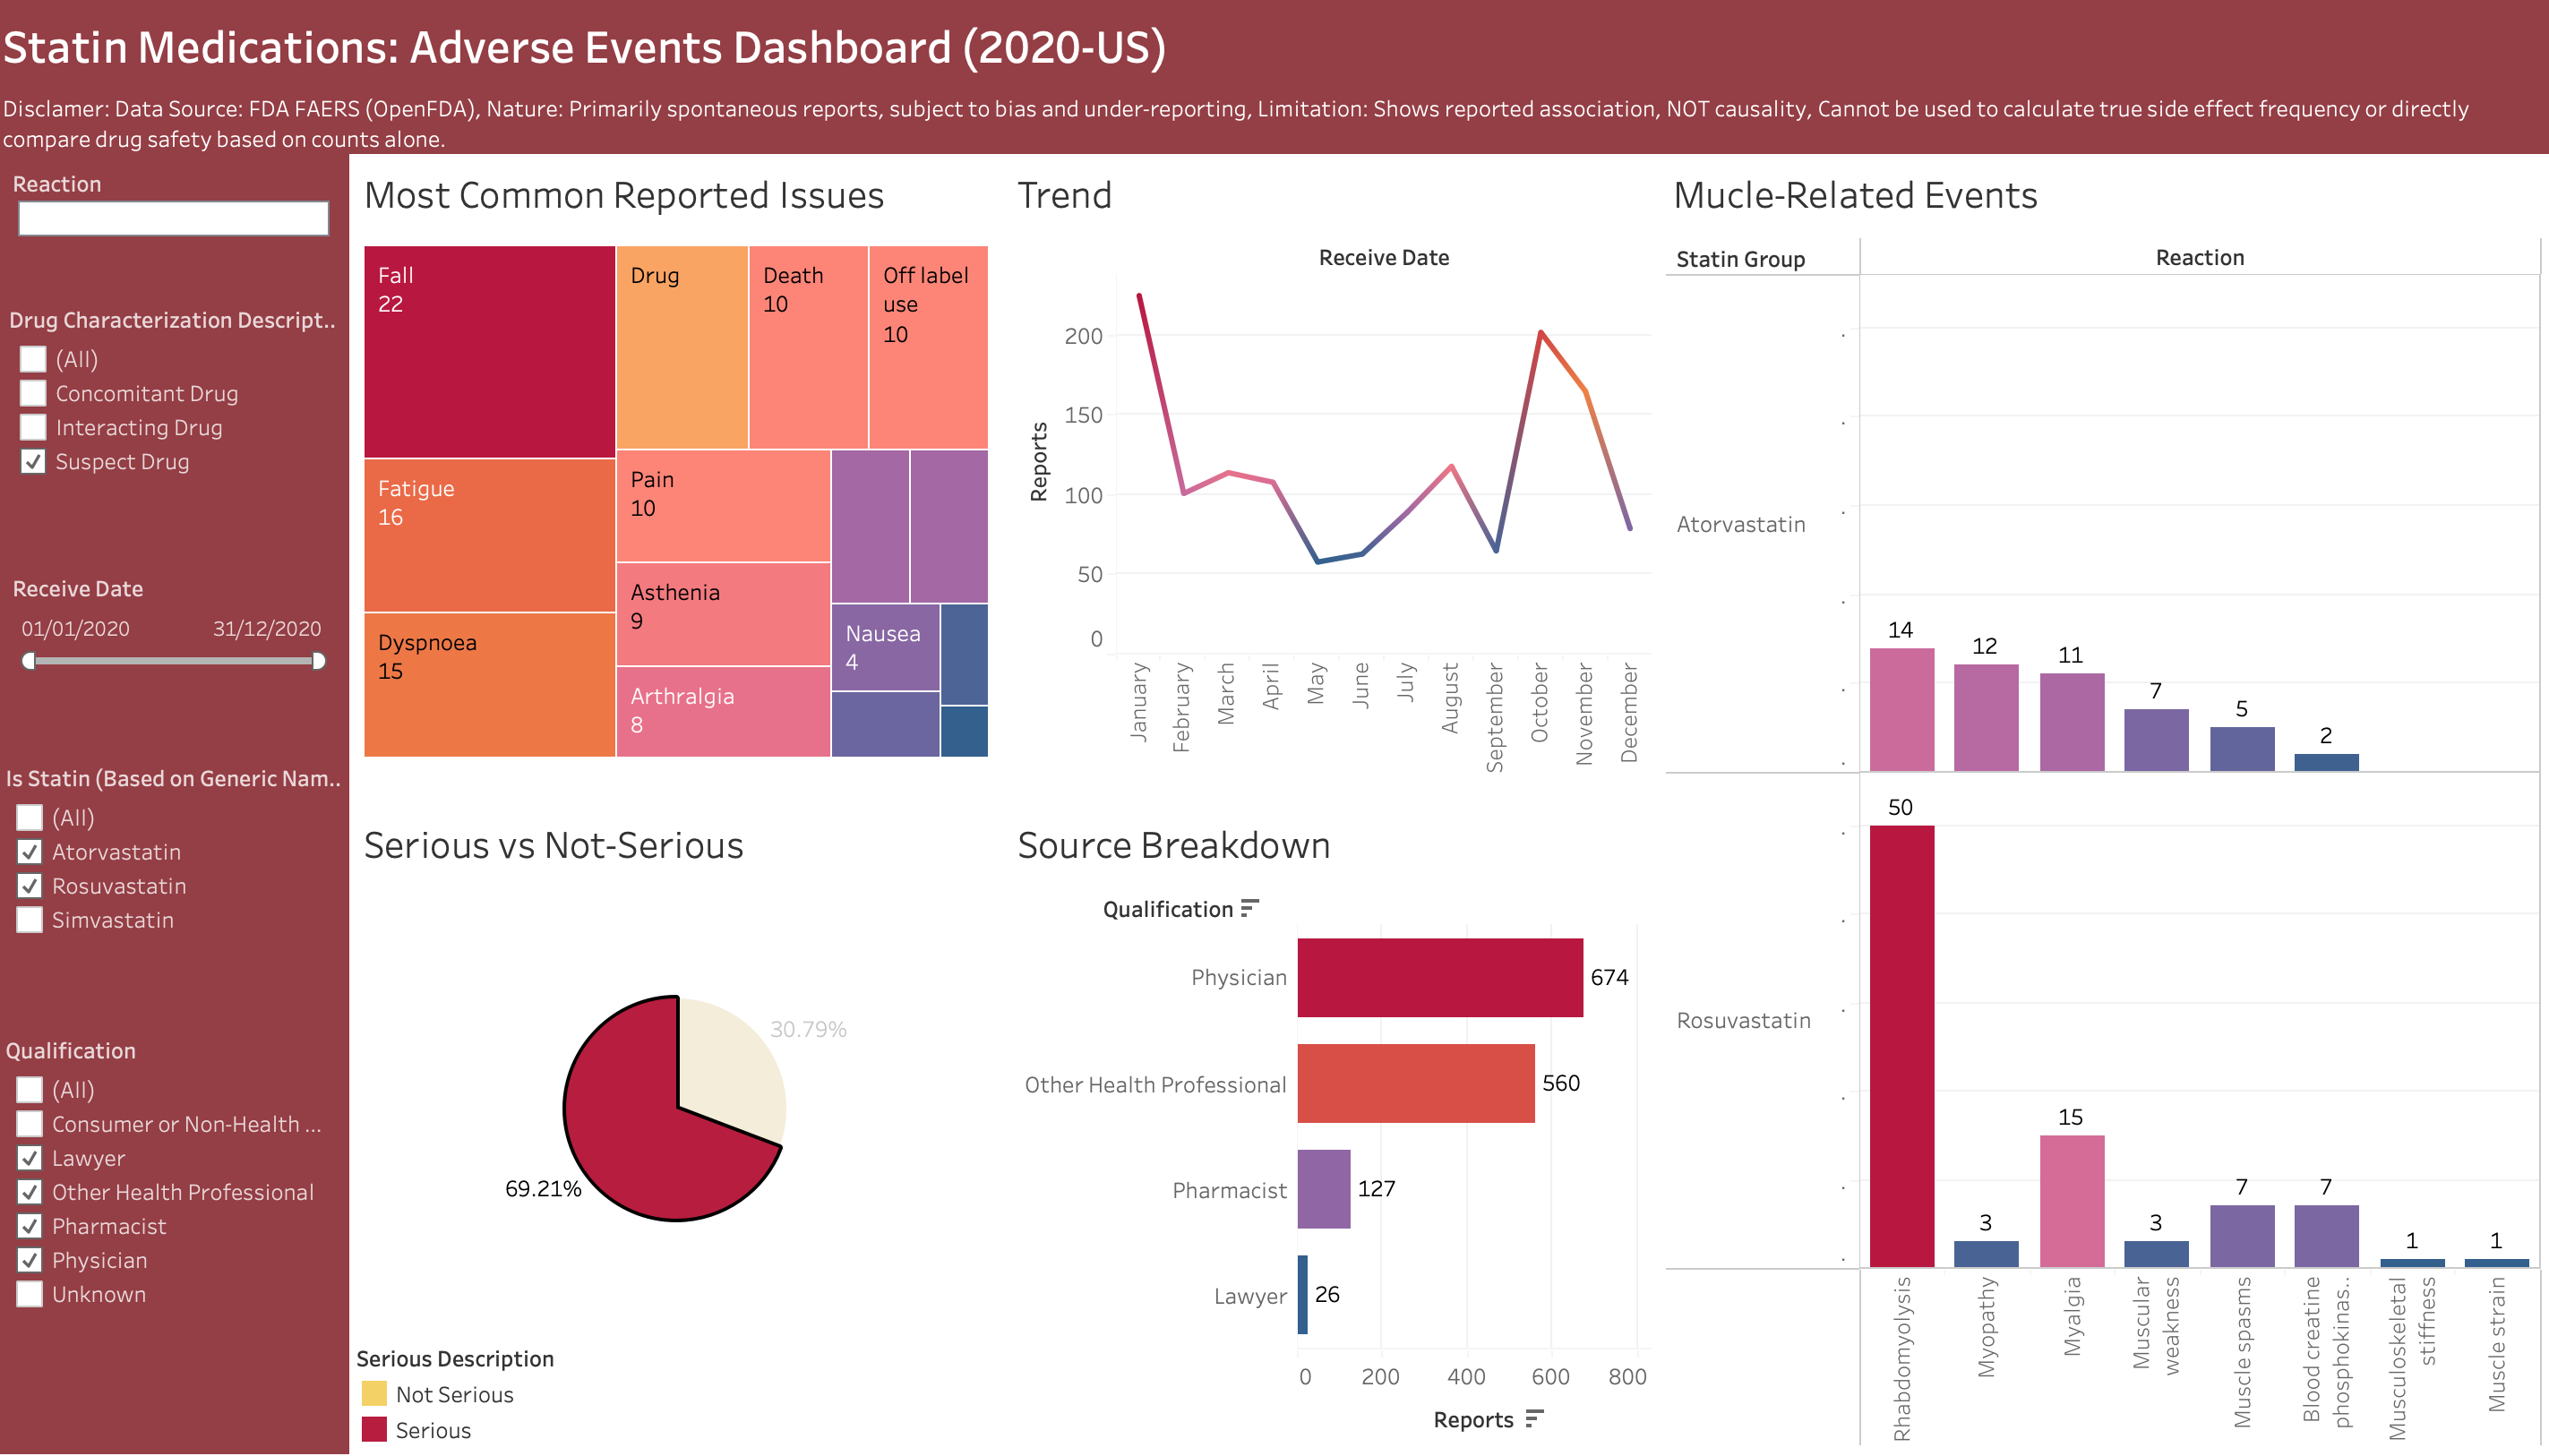

Layout of this report page (visuals, bound fields, positions):
{"tool":"tableau","page":{"name":"Dashboard 1","canvas":[1000,1000],"units":"permille","ordinal":0},"visuals":[{"type":"title","box":[6.6,11.4,986.8,77.1]},{"type":"text","box":[6.6,88.6,986.8,48.6]},{"type":"filter","title":"Most Common Reported Issues","param":"[federated.0z584by1qv8k3h11t4nj408zaubz].[none:reaction:nk]","box":[6.6,137.1,136.1,91.3]},{"type":"worksheet","title":"Most Common Reported Issues","mark":"Automatic","box":[142.7,137.1,252.7,425.6]},{"type":"worksheet","title":"Trend","mark":"Automatic","rows":["Calculation_1427711453997498368"],"cols":["receive_date"],"box":[395.4,137.1,253.7,425.6]},{"type":"worksheet","title":"Mucle-Related Events","mark":"Automatic","rows":["Calculation_2219500564527845376","Calculation_1427711453997498368"],"cols":["reaction"],"box":[649.1,137.1,344.3,851.4]},{"type":"filter","title":"Most Common Reported Issues","param":"[federated.0z584by1qv8k3h11t4nj408zaubz].[none:drug_characterization_description","box":[6.6,228.5,136.1,174.3]},{"type":"filter","title":"Most Common Reported Issues","param":"[federated.0z584by1qv8k3h11t4nj408zaubz].[none:receive_date:qk]","box":[6.6,402.8,136.1,128.6]},{"type":"filter","title":"Most Common Reported Issues","param":"[federated.0z584by1qv8k3h11t4nj408zaubz].[none:Calculation_4216706262604722176:n","box":[6.6,531.4,136.1,178.6]},{"type":"worksheet","title":"Serious vs Not-Serious","mark":"Pie","box":[142.7,562.7,252.7,331.6]},{"type":"worksheet","title":"Source Breakdown","mark":"Automatic","rows":["Calculation_1530942401727475712"],"cols":["Calculation_1427711453997498368"],"box":[395.4,562.7,253.7,425.9]},{"type":"filter","title":"Source Breakdown","param":"[federated.0z584by1qv8k3h11t4nj408zaubz].[none:Calculation_1530942401727475712:n","box":[6.6,710,136.1,278.6]},{"type":"legend","title":"Serious vs Not-Serious","param":"[federated.0z584by1qv8k3h11t4nj408zaubz].[none:serious_description:nk]","box":[142.7,894.3,252.7,94.3]}]}

Visuals, with their boxes on the dashboard's canvas, which has no fixed pixel size, in thousandths of its width and height (x1, y1, x2, y2). These are canvas units, not pixel positions in the 2549x1456 screenshot, which may show the page scaled, cropped or inside an application window:
title: detection(7, 11, 993, 88)
text: detection(7, 89, 993, 137)
"Most Common Reported Issues" filter: detection(7, 137, 143, 228)
"Most Common Reported Issues" worksheet: detection(143, 137, 395, 563)
"Trend" worksheet: detection(395, 137, 649, 563)
"Mucle-Related Events" worksheet: detection(649, 137, 993, 988)
"Most Common Reported Issues" filter: detection(7, 228, 143, 403)
"Most Common Reported Issues" filter: detection(7, 403, 143, 531)
"Most Common Reported Issues" filter: detection(7, 531, 143, 710)
"Serious vs Not-Serious" worksheet (Pie marks): detection(143, 563, 395, 894)
"Source Breakdown" worksheet: detection(395, 563, 649, 989)
"Source Breakdown" filter: detection(7, 710, 143, 989)
"Serious vs Not-Serious" legend: detection(143, 894, 395, 989)
